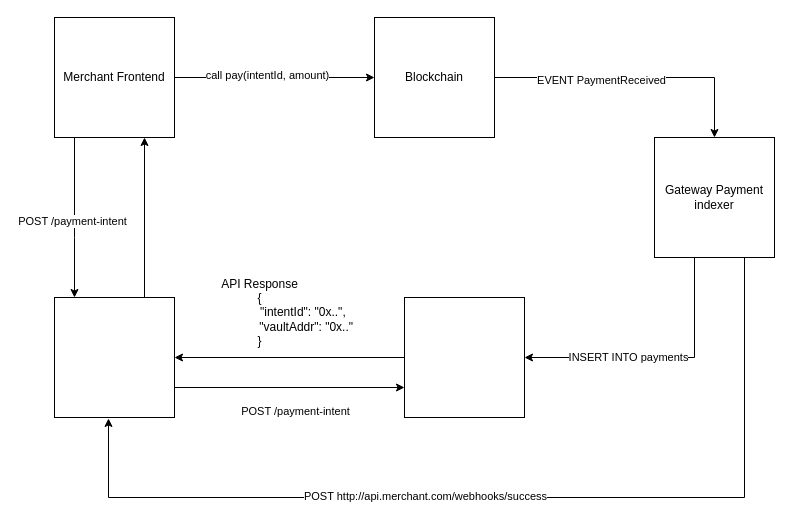
Some shapes in this 792 by 523 pixel diagram are drawn without their labels. Each missing label, with the centre of its shape:
"Gateway API" goes at [464,357].
"Merchant Backend" goes at [114,357].
